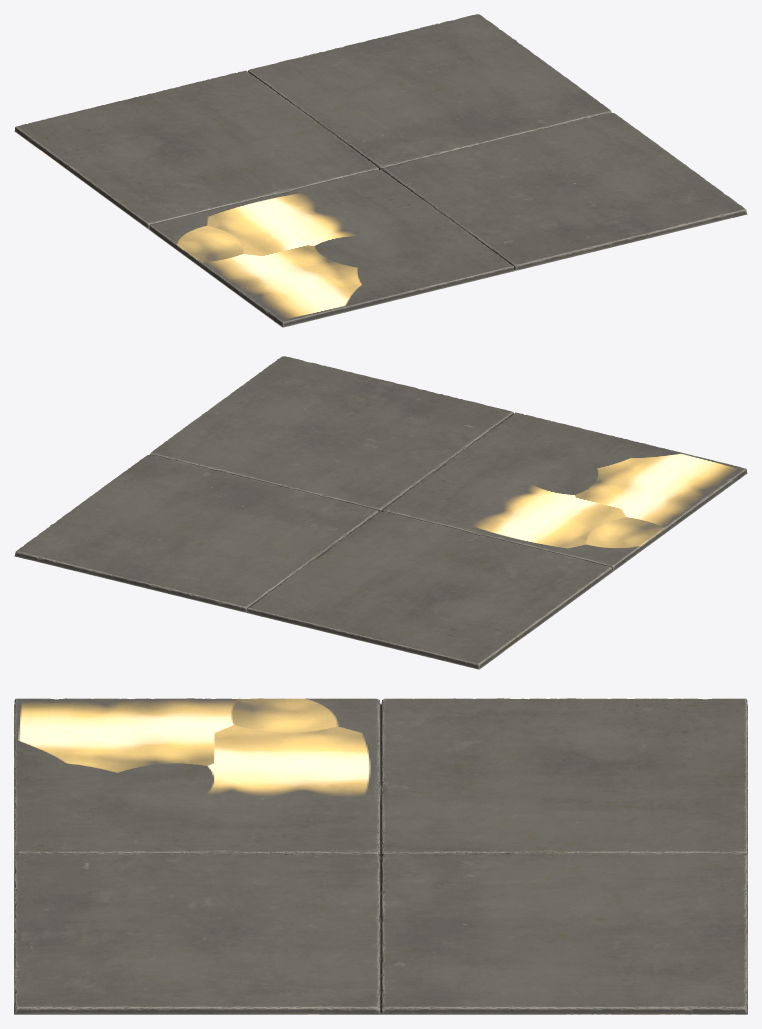
3 views of the same model, one above another, from view 1: azimuth 30°, elevation 25°; view 2: azimuth 150°, elevation 25°; view 3: azimuth 270°, elevation 25° (orthographic). The views are drawn at different scales.
Visible parts, largest first — view 1: SM_Sewer_Floor_01a_LOD0; view 2: SM_Sewer_Floor_01a_LOD0; view 3: SM_Sewer_Floor_01a_LOD0.
Boxes of the visible parts, x1=… form: SM_Sewer_Floor_01a_LOD0: x1=14, y1=14, x2=747, y2=327; SM_Sewer_Floor_01a_LOD0: x1=14, y1=356, x2=747, y2=669; SM_Sewer_Floor_01a_LOD0: x1=14, y1=698, x2=747, y2=1014.
Bounding box in the file's own units: 200 × 200 × 2.42.
